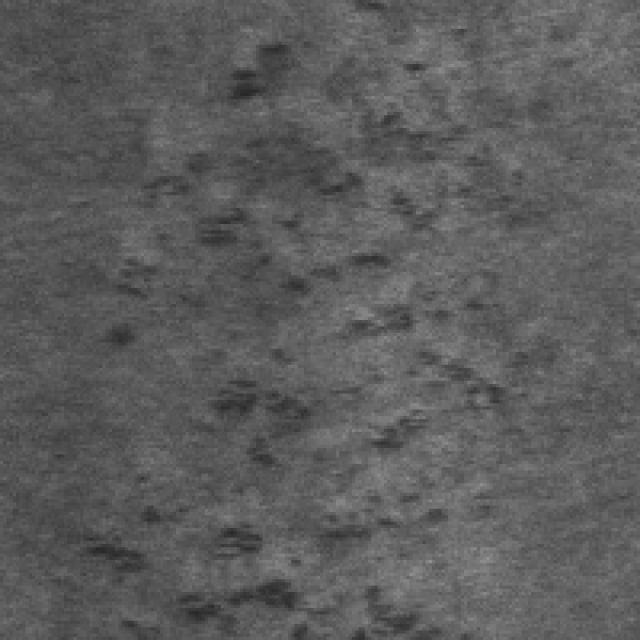rolled-in_scale: (141, 39, 480, 630), (186, 16, 515, 291)
